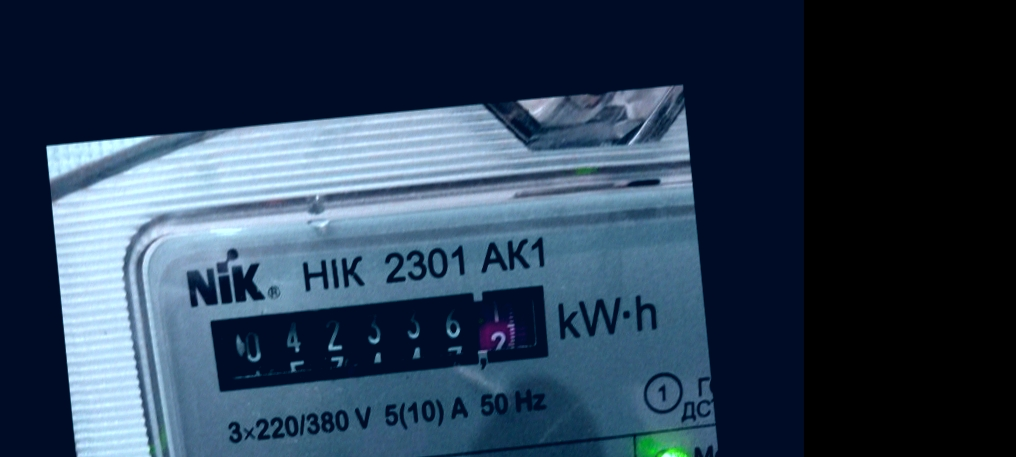0: (241, 328, 265, 365)
1: (487, 296, 503, 326)
2: (322, 317, 345, 354), (488, 330, 509, 353)
3: (362, 309, 385, 348), (400, 305, 423, 343)
4: (282, 318, 304, 356)
6: (439, 304, 464, 341)
screen: (201, 275, 560, 402)
